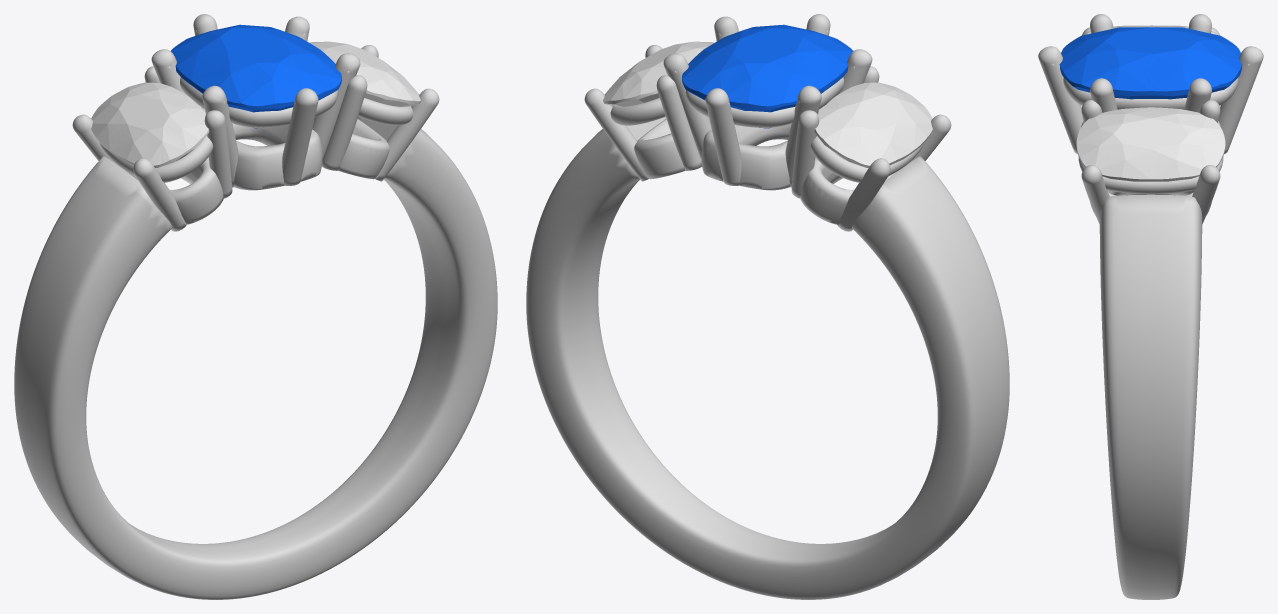
File: bluesapphire-cushion-platinum-6prong-straighttaperedband-3stone.glb
3 renders of one model, left to right at view 1: azimuth 30°, elevation 25°; view 2: azimuth 150°, elevation 25°; view 3: azimuth 270°, elevation 25°, orthographic.
Visible parts, largest first — view 1: metal.001, stone.002, side.004, side.005; view 2: metal.001, stone.002, side.004, side.005; view 3: metal.001, stone.002, side.005.
Boxes of the visible parts, x1,y1,x2,y2 form: metal.001: (14, 14, 497, 599); stone.002: (171, 24, 341, 128); side.004: (91, 82, 209, 167); side.005: (309, 41, 420, 106); metal.001: (526, 14, 1009, 599); stone.002: (682, 24, 852, 128); side.004: (814, 82, 932, 167); side.005: (603, 41, 714, 106); metal.001: (1038, 14, 1263, 599); stone.002: (1059, 27, 1242, 99); side.005: (1076, 107, 1225, 181).
Bounding box in the file's own units: 20.1 × 23.04 × 8.8.
